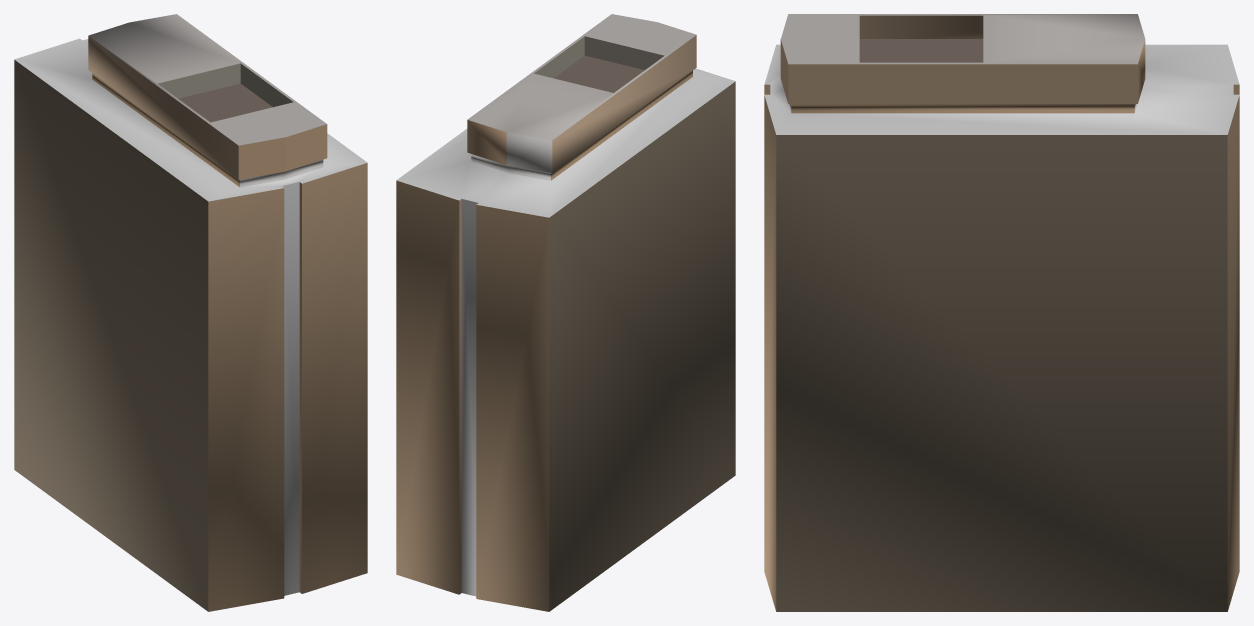
Rendered from hotel.obj.
3 views of the same model, side by side, from view 1: azimuth 30°, elevation 25°; view 2: azimuth 150°, elevation 25°; view 3: azimuth 270°, elevation 25° (orthographic). The views are drawn at different scales.
Parts seen in each view (by area): view 1: Mesh1_Model; view 2: Mesh1_Model; view 3: Mesh1_Model.
Boxes of the visible parts, box(x1,y1,x2,y2) form: Mesh1_Model: box(14, 14, 367, 611); Mesh1_Model: box(396, 14, 735, 611); Mesh1_Model: box(764, 14, 1239, 611).
Bounding box in the file's own units: 18 × 49 × 40.
